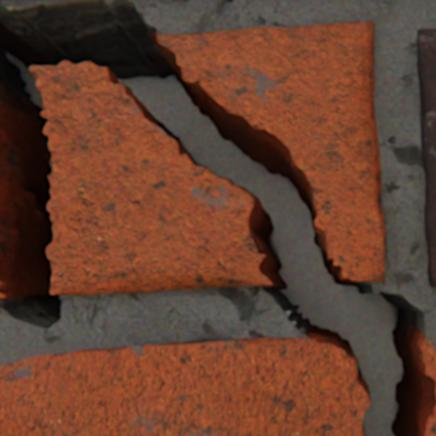brick: (416, 30, 435, 286)
broken_brick: (149, 23, 384, 281), (30, 62, 272, 294), (0, 337, 370, 435), (418, 338, 435, 398), (423, 402, 435, 435), (0, 278, 10, 299), (0, 236, 3, 259)
crack: (0, 0, 435, 435)
